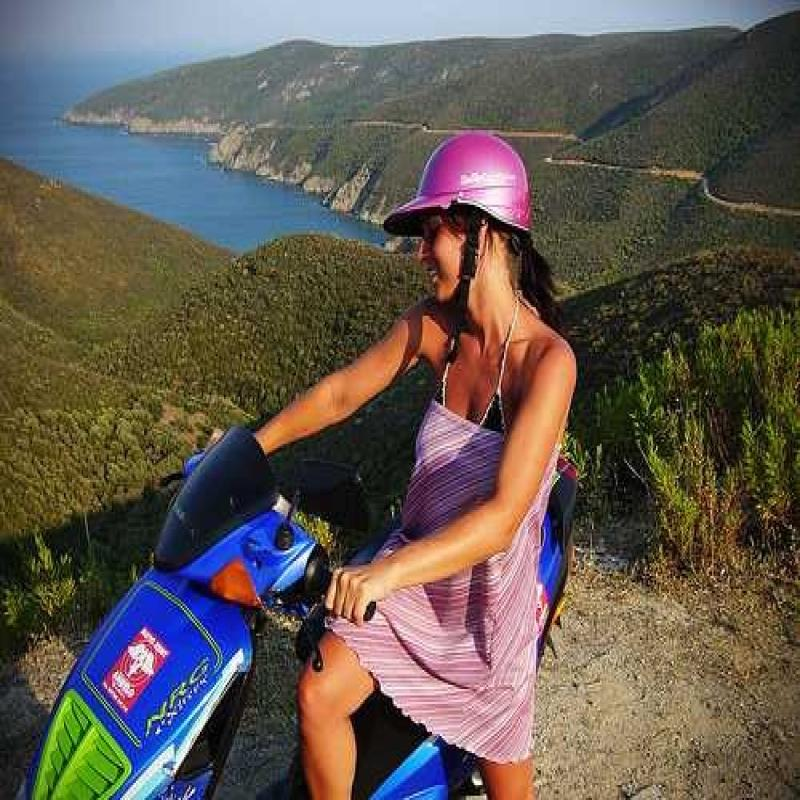bike: (45, 414, 339, 800)
